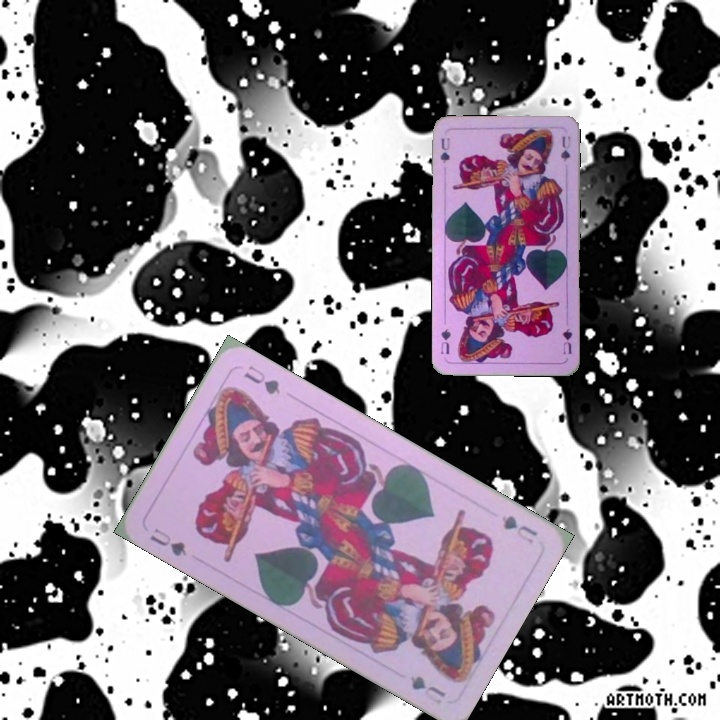GU: (145, 524, 190, 559), (497, 511, 540, 547), (436, 134, 453, 166), (559, 324, 574, 357)
